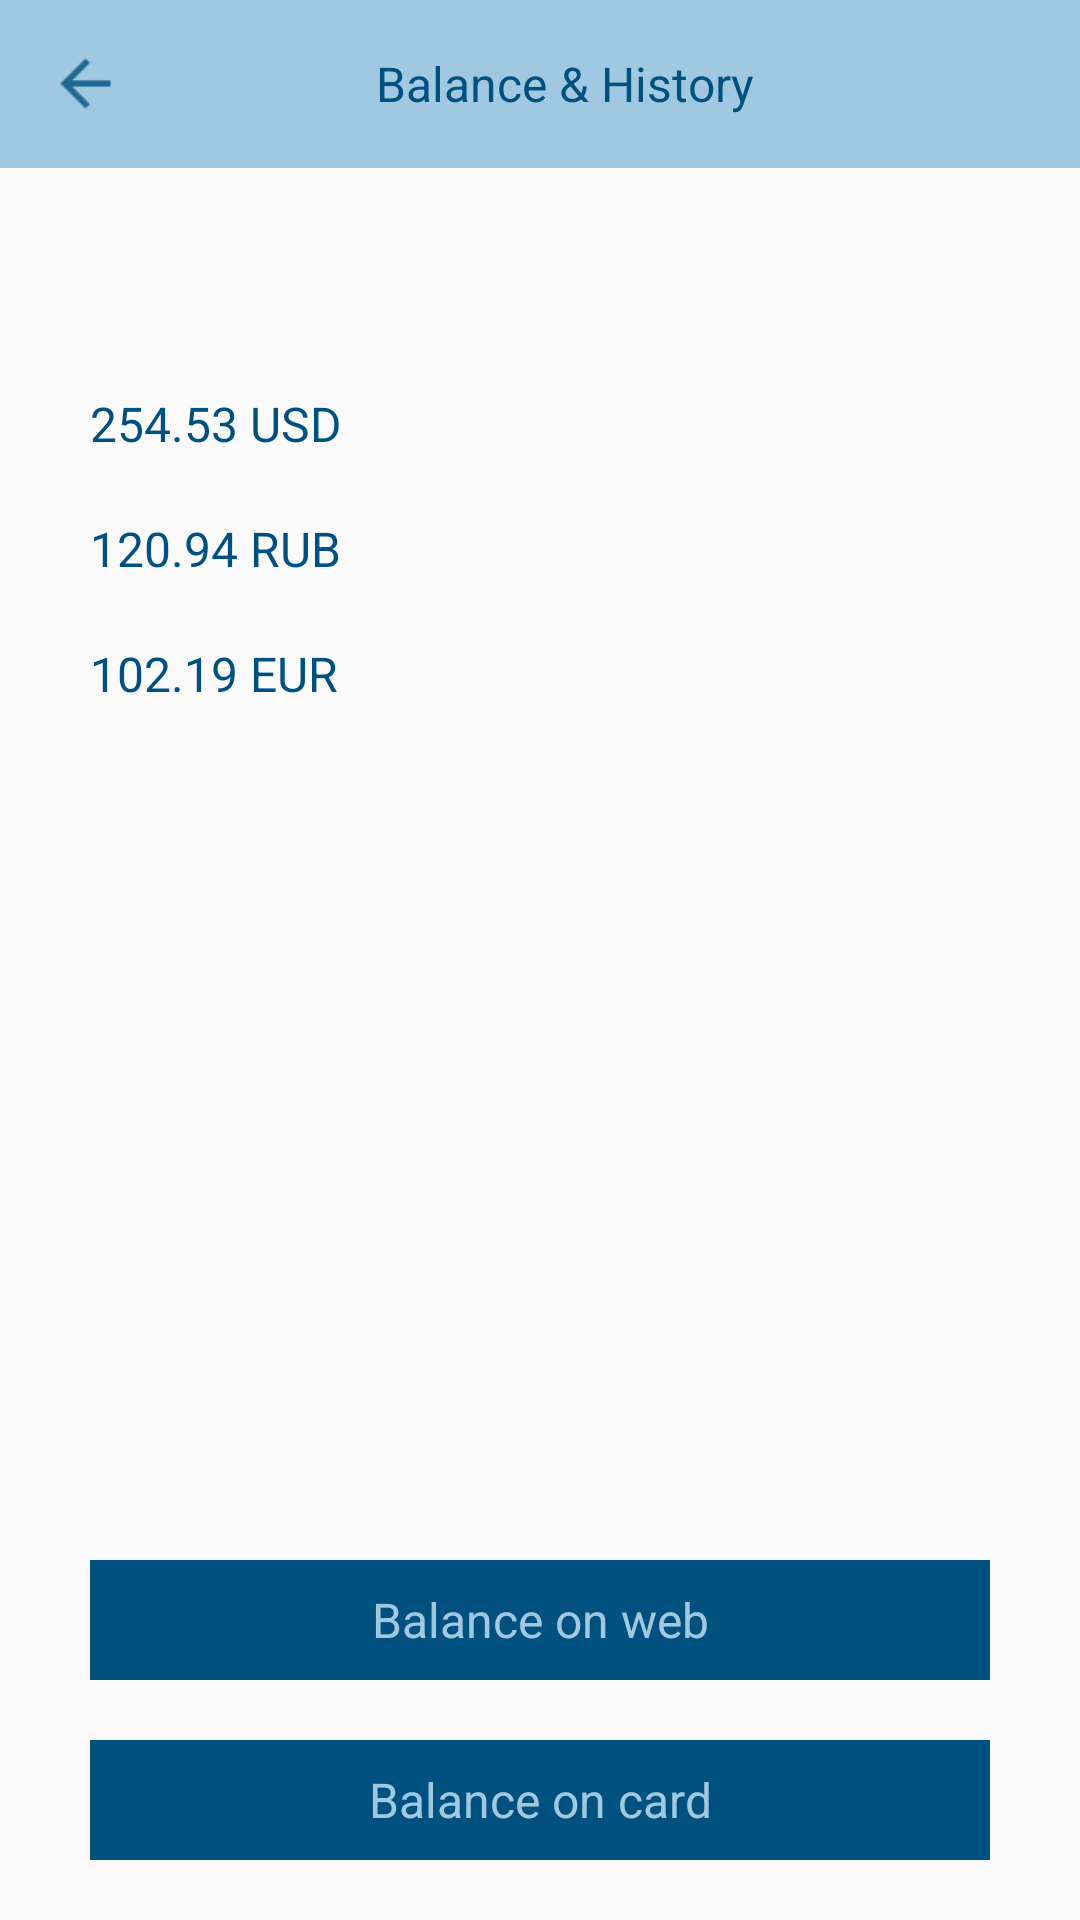

Locate icon controls on the screen. Image size 1080 x 1920, boxes as [left=x1, top=y1, right=x2, bottom=y2].
arrow back: [left=60, top=58, right=111, bottom=109]
